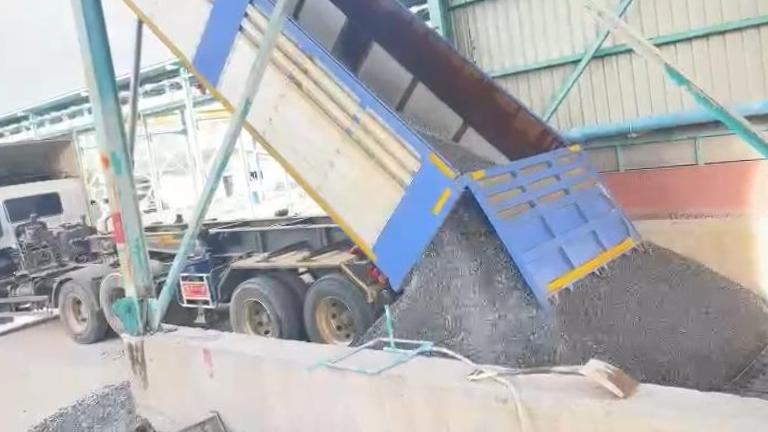gravel: (393, 195, 768, 390), (23, 381, 138, 432), (411, 122, 496, 175)
